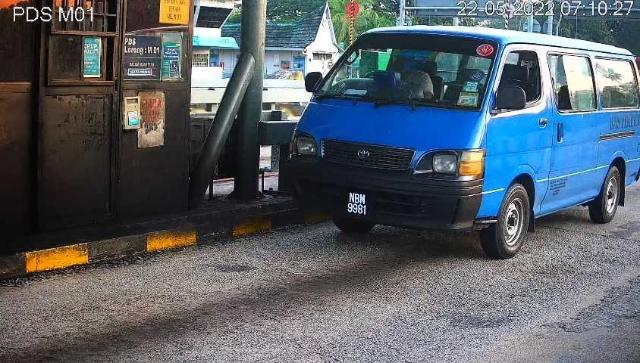License_Plate: (343, 189, 375, 222)
van: (289, 26, 640, 262)
